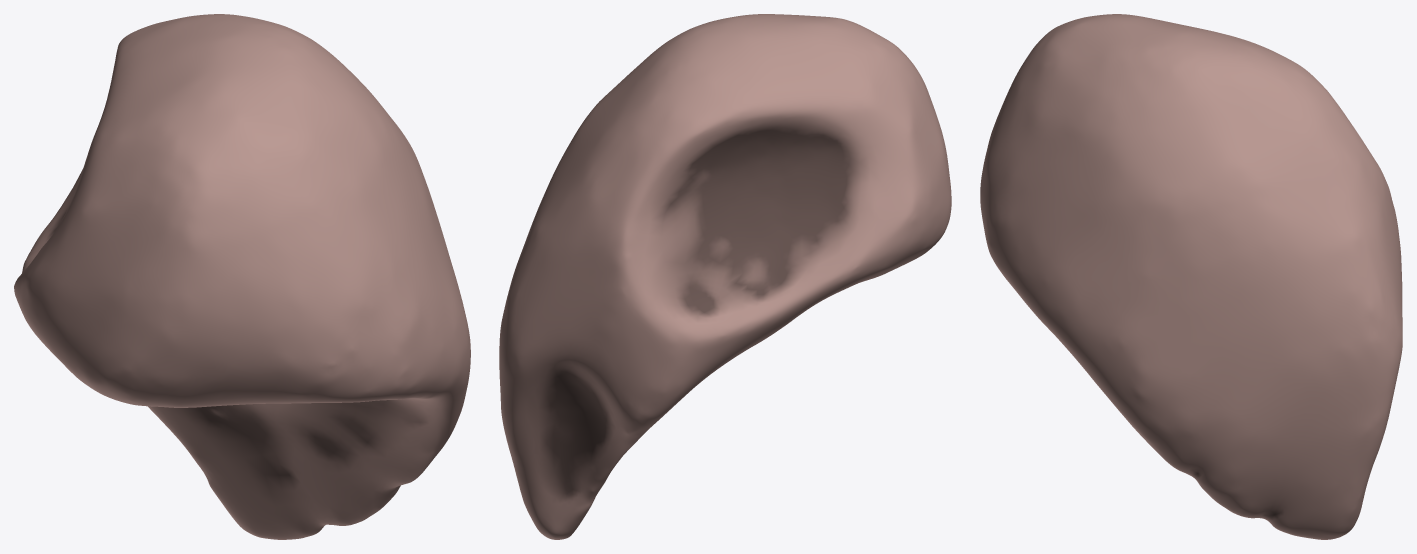
Rendered from spleen.124e5d203e.glb.
3 views of the same model, side by side, from view 1: azimuth 30°, elevation 25°; view 2: azimuth 150°, elevation 25°; view 3: azimuth 270°, elevation 25° (orthographic). The views are drawn at different scales.
Visible parts, largest first — view 1: FMA7196; view 2: FMA7196; view 3: FMA7196.
Part boxes in pixels (x1,y1,x2,y2): FMA7196: (14,14,470,539); FMA7196: (499,14,951,539); FMA7196: (980,14,1402,539).
Bounding box in the file's own units: 73.58 × 99.1 × 83.45.
